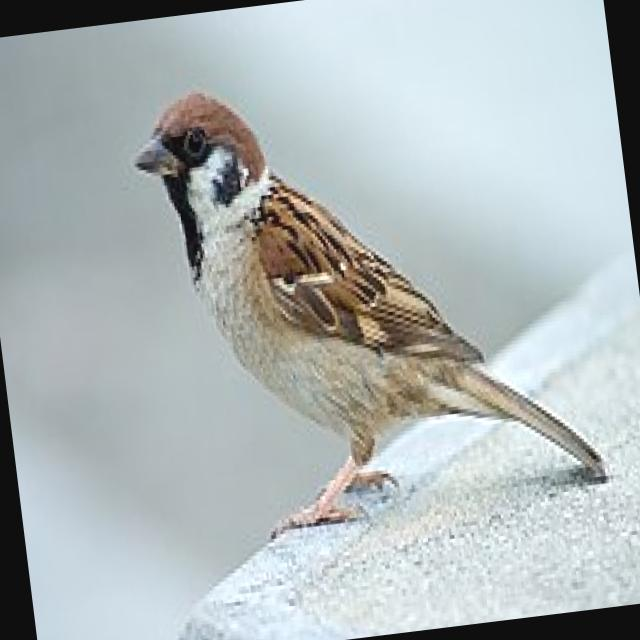bird: (127, 42, 603, 552)
